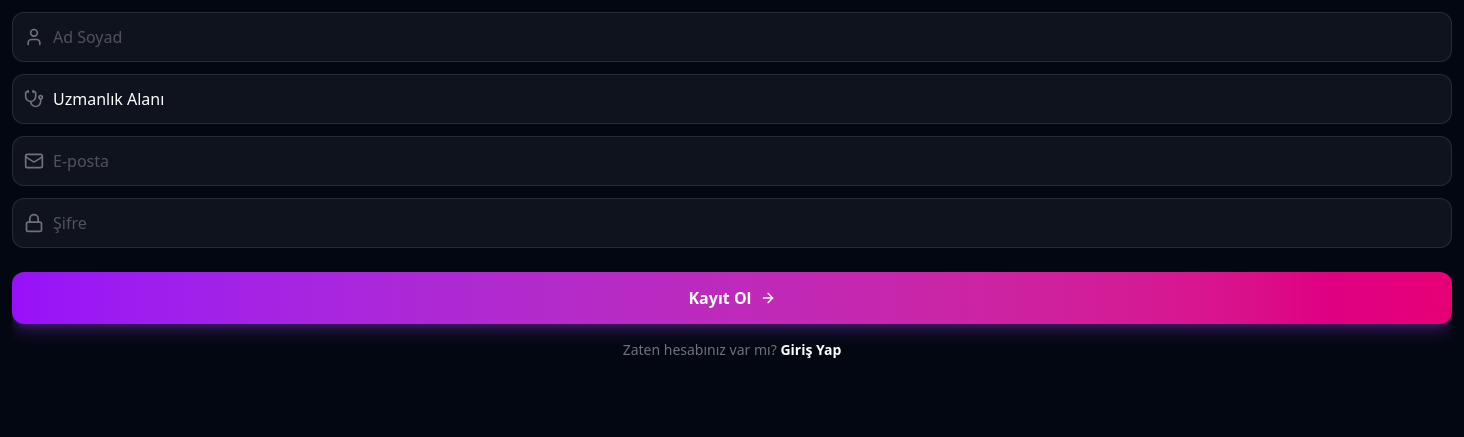
Scenario: RegisterForm › başarısız kayıtta hata mesajı göstermeli
The image size is (1464, 437).
Type "Dr. Test" into the field with placeholder "Ad Soyad" at (732, 37), box x1=12 y1=12 x2=1452 y2=62
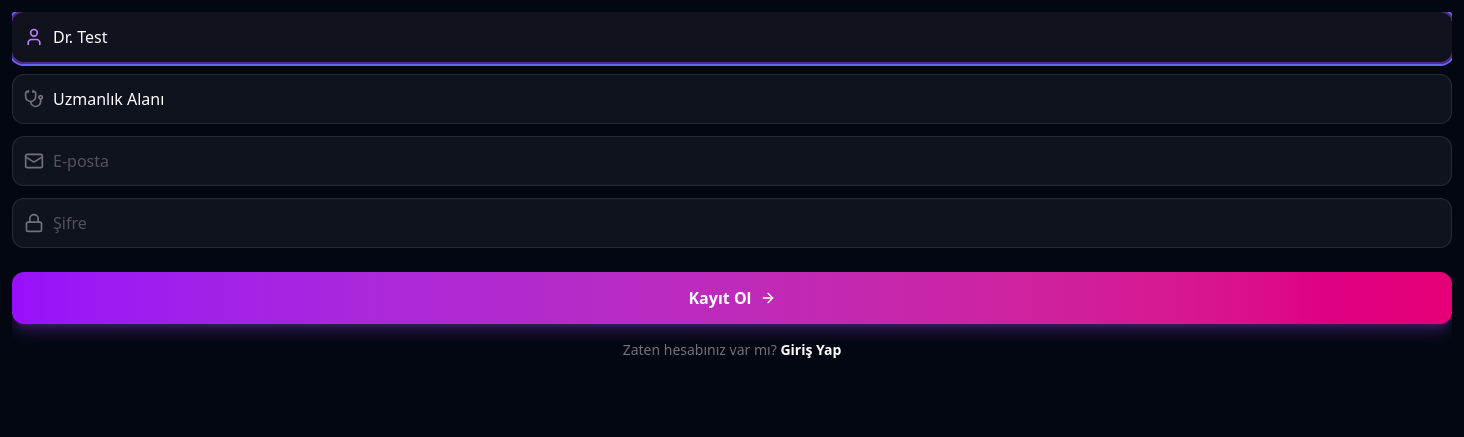
Type "existing@test.com" into the field with placeholder "E-posta" at (732, 161), box x1=12 y1=136 x2=1452 y2=186
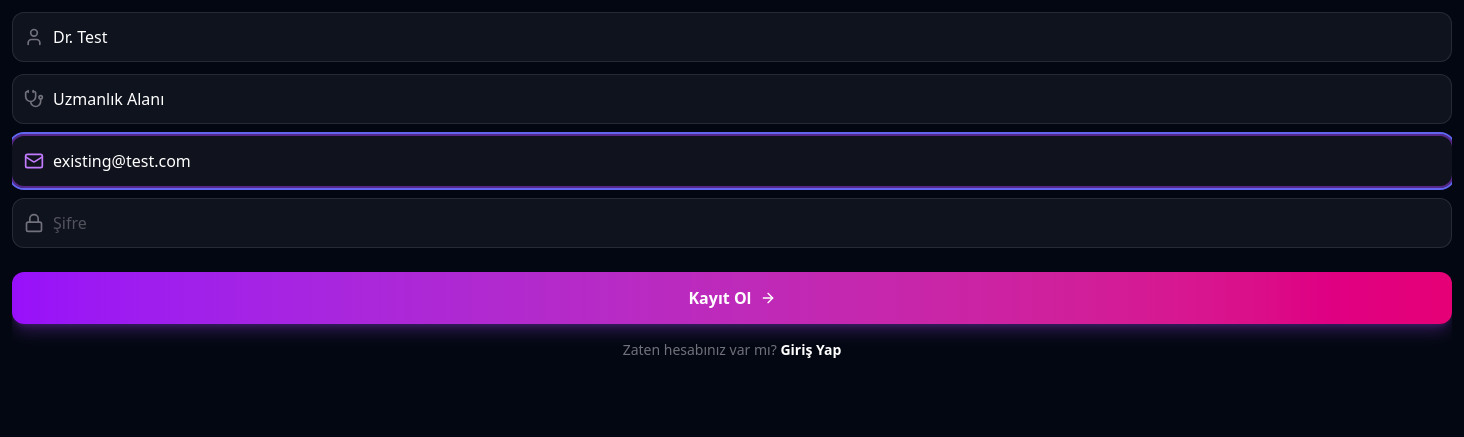
Type "password123" into the password field with placeholder "Şifre" at (732, 223), box x1=12 y1=198 x2=1452 y2=248
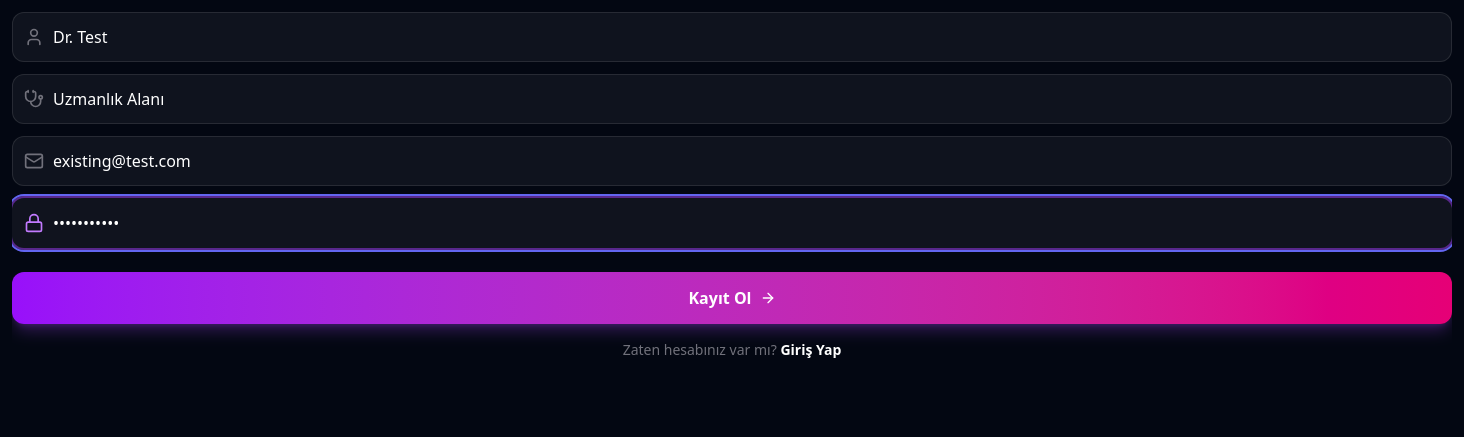
Click the button "Kayıt Ol" at (732, 298), box x1=12 y1=272 x2=1452 y2=324
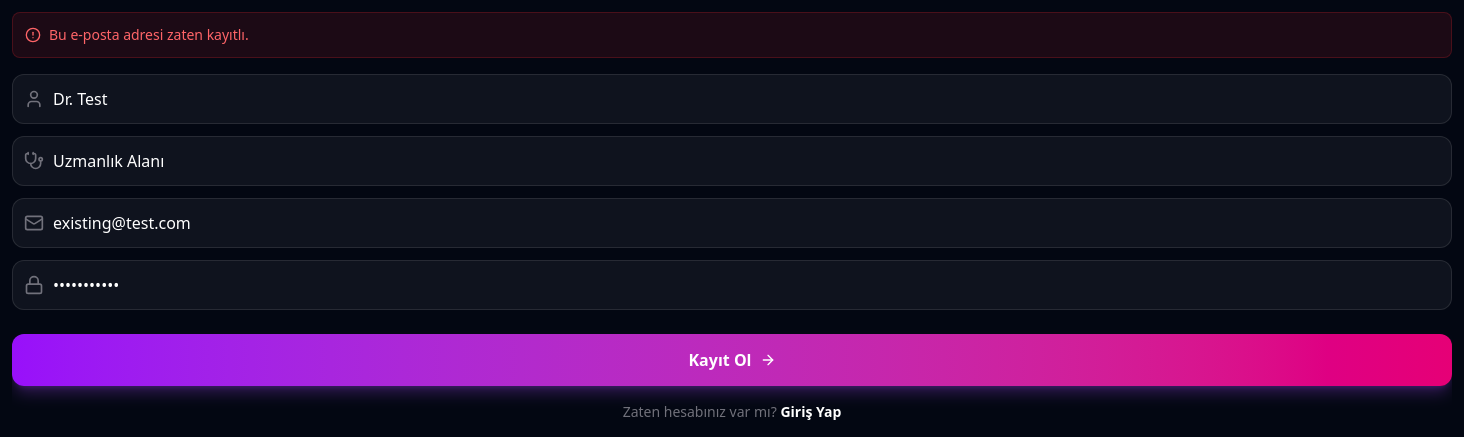
Check: the text "Bu e-posta adresi zaten kayıtlı." is shown, box x1=12 y1=12 x2=1452 y2=58
